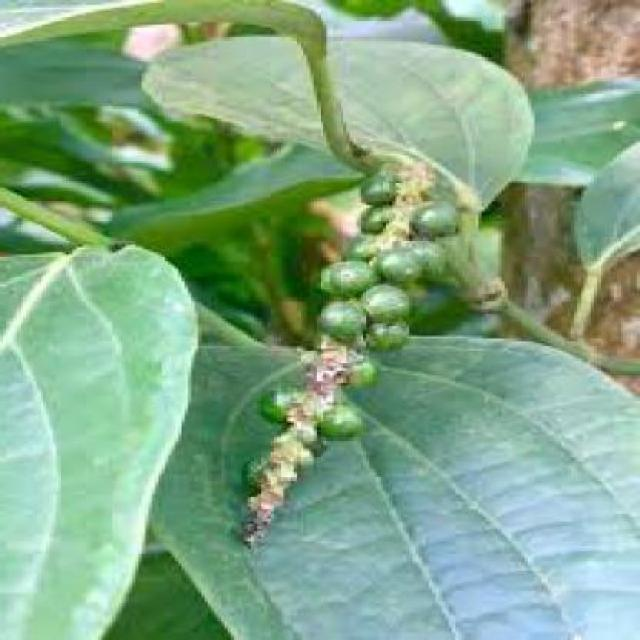UNRIPE: (264, 175, 462, 438)
